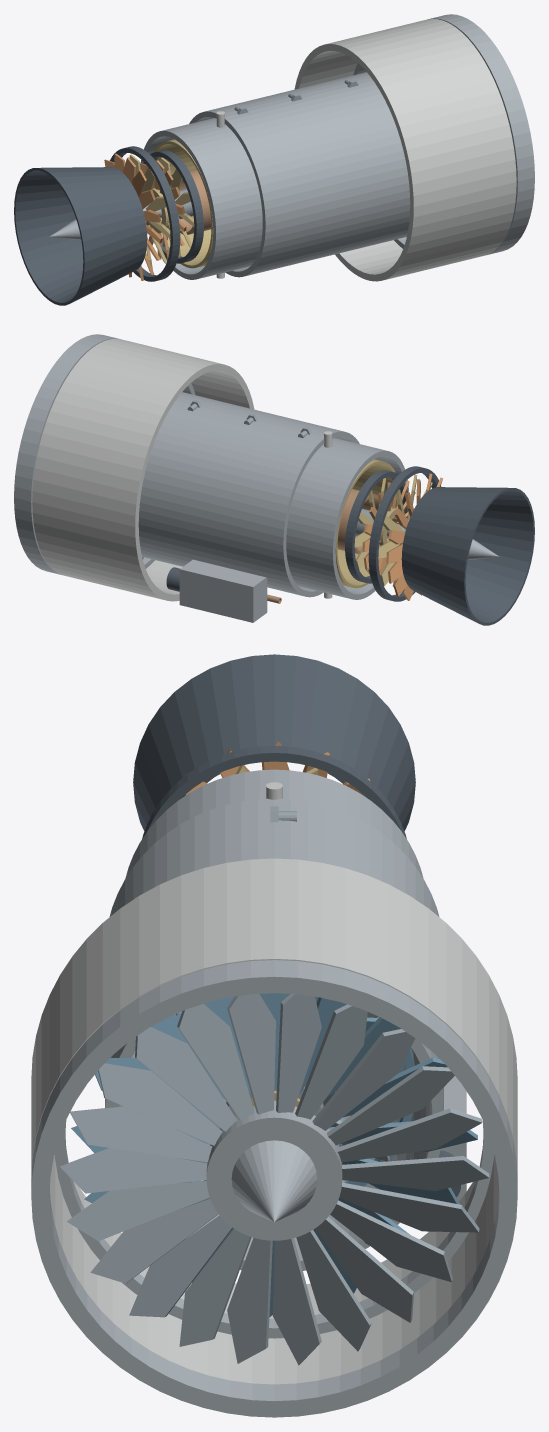
Rendered from assembly.glb.
3 renders of one model, top to bottom at view 1: azimuth 30°, elevation 25°; view 2: azimuth 150°, elevation 25°; view 3: azimuth 270°, elevation 25°, orthographic. The views are drawn at different scales.
Parts seen in each view (by area): view 1: part-001, part-142, part-222, part-150, part-000, part-002, part-211, part-143, part-151, part-183, part-152, part-223; view 2: part-002, part-143, part-222, part-150, part-000, part-230, part-001, part-211, part-142, part-151, part-183, part-152 (+1 smaller); view 3: part-000, part-002, part-001, part-222, part-143, part-003, part-142, part-150, part-004, part-027, part-015, part-016 (+23 smaller).
Boxes of the visible parts, bbox=[...] form: part-001: bbox=[353, 27, 516, 281]; part-142: bbox=[224, 81, 410, 277]; part-222: bbox=[14, 167, 147, 305]; part-150: bbox=[140, 118, 262, 279]; part-000: bbox=[428, 14, 534, 255]; part-002: bbox=[294, 18, 455, 272]; part-211: bbox=[110, 146, 180, 281]; part-143: bbox=[189, 72, 373, 123]; part-151: bbox=[153, 139, 213, 268]; part-183: bbox=[143, 150, 203, 263]; part-152: bbox=[171, 169, 211, 234]; part-223: bbox=[49, 219, 81, 240]; part-002: bbox=[32, 347, 195, 601]; part-143: bbox=[138, 401, 324, 597]; part-222: bbox=[401, 487, 534, 625]; part-150: bbox=[286, 438, 408, 599]; part-000: bbox=[14, 334, 120, 575]; part-230: bbox=[179, 559, 267, 622]; part-001: bbox=[93, 338, 254, 579]; part-211: bbox=[368, 466, 441, 601]; part-142: bbox=[175, 392, 359, 443]; part-151: bbox=[335, 459, 397, 588]; part-183: bbox=[345, 470, 408, 583]; part-152: bbox=[337, 489, 379, 554]; part-000: bbox=[31, 960, 517, 1417]; part-002: bbox=[274, 858, 517, 1384]; part-001: bbox=[31, 858, 274, 1384]; part-222: bbox=[133, 654, 415, 830]; part-143: bbox=[274, 798, 443, 1270]; part-003: bbox=[206, 1103, 342, 1240]; part-142: bbox=[105, 798, 274, 1270]; part-150: bbox=[125, 769, 423, 878]; part-004: bbox=[231, 1140, 317, 1221]; part-027: bbox=[54, 1120, 494, 1338]; part-015: bbox=[70, 1106, 212, 1162]; part-016: bbox=[60, 1148, 207, 1193].
Bounding box in the file's own units: 0.184 × 0.086 × 0.086.
